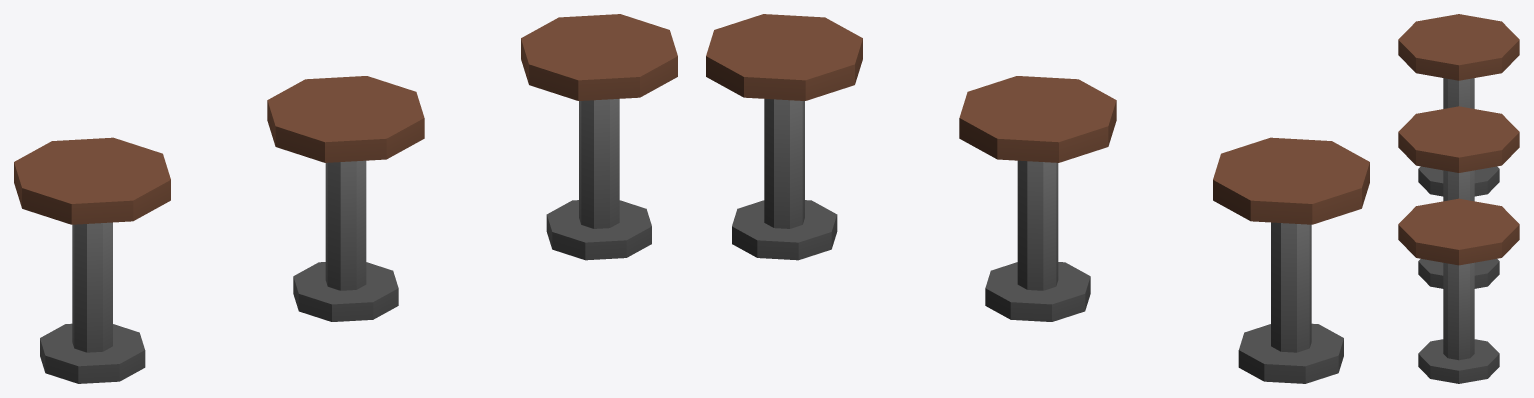
Rendered from chairs.fbx.
3 views of the same model, side by side, from view 1: azimuth 30°, elevation 25°; view 2: azimuth 150°, elevation 25°; view 3: azimuth 270°, elevation 25° (orthographic). The views are drawn at different scales.
Visible parts, largest first — view 1: chairs; view 2: chairs; view 3: chairs.
Boxes of the visible parts, box(x1,y1,x2,y2) form: chairs: box(14, 14, 677, 383); chairs: box(706, 14, 1369, 383); chairs: box(1398, 14, 1519, 383).
Size of the model in its own units: 289 by 81.44 by 62.87.
Materials: 1 (1 with a texture image).
